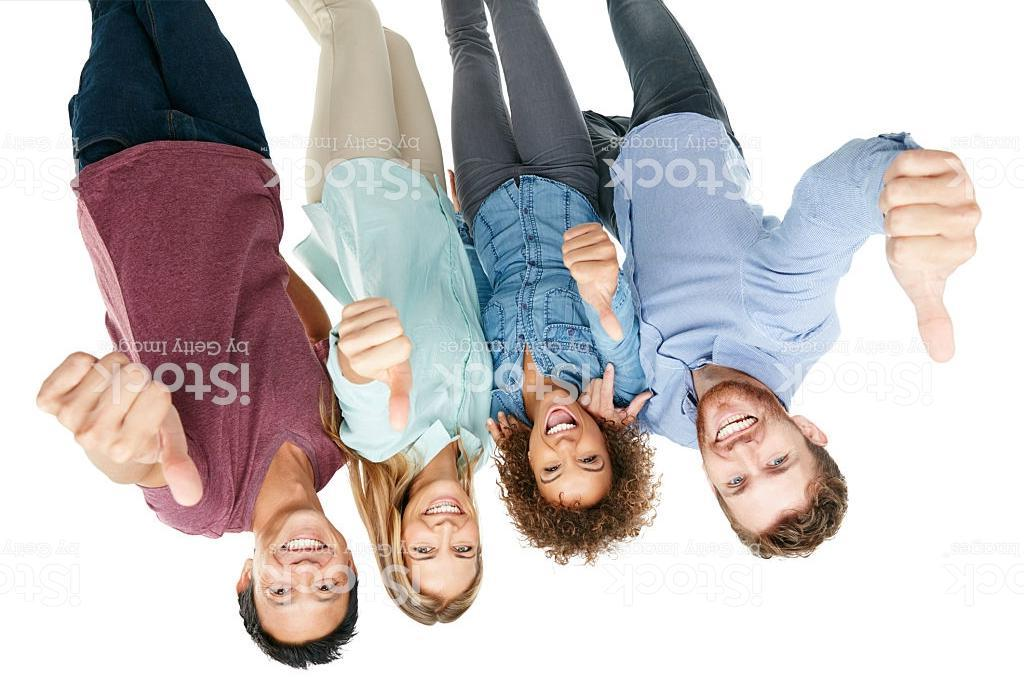thumbsdown: (35, 350, 205, 509), (874, 146, 986, 366), (336, 297, 416, 434), (559, 221, 626, 345)
